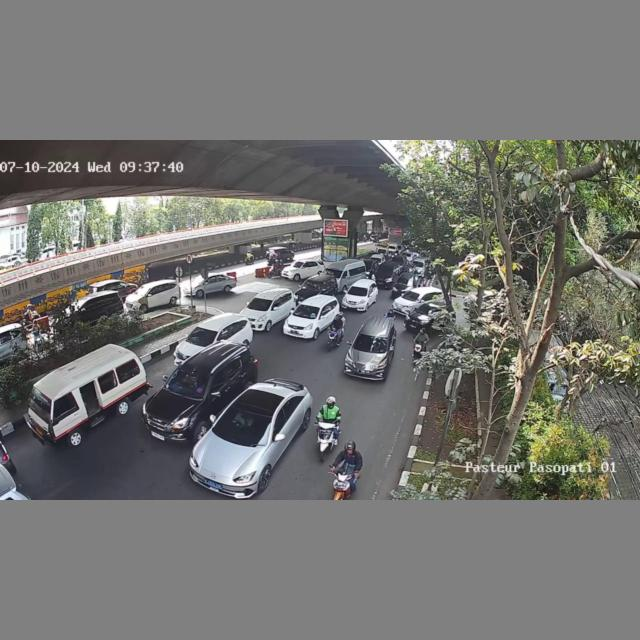windshield: (214, 406, 276, 446), (167, 364, 212, 397), (27, 387, 54, 421), (353, 332, 388, 353), (185, 328, 218, 346), (245, 297, 272, 311), (294, 304, 319, 318), (302, 279, 324, 292), (348, 287, 371, 298), (403, 291, 421, 301)
